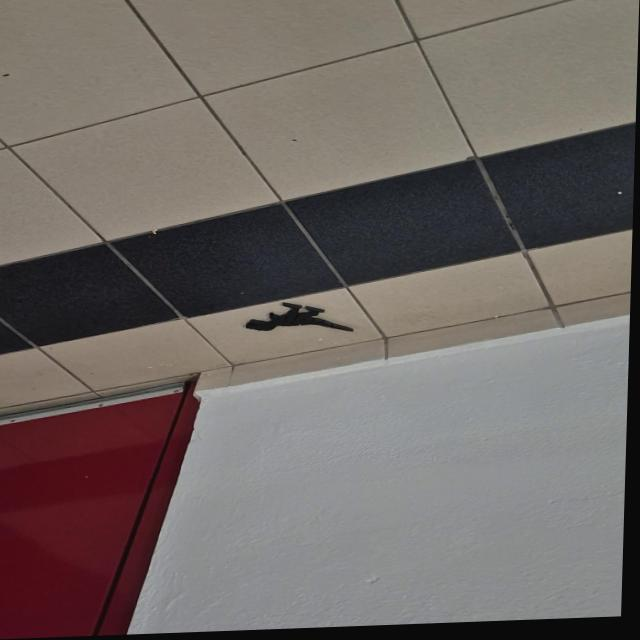dino: (244, 300, 355, 337)
